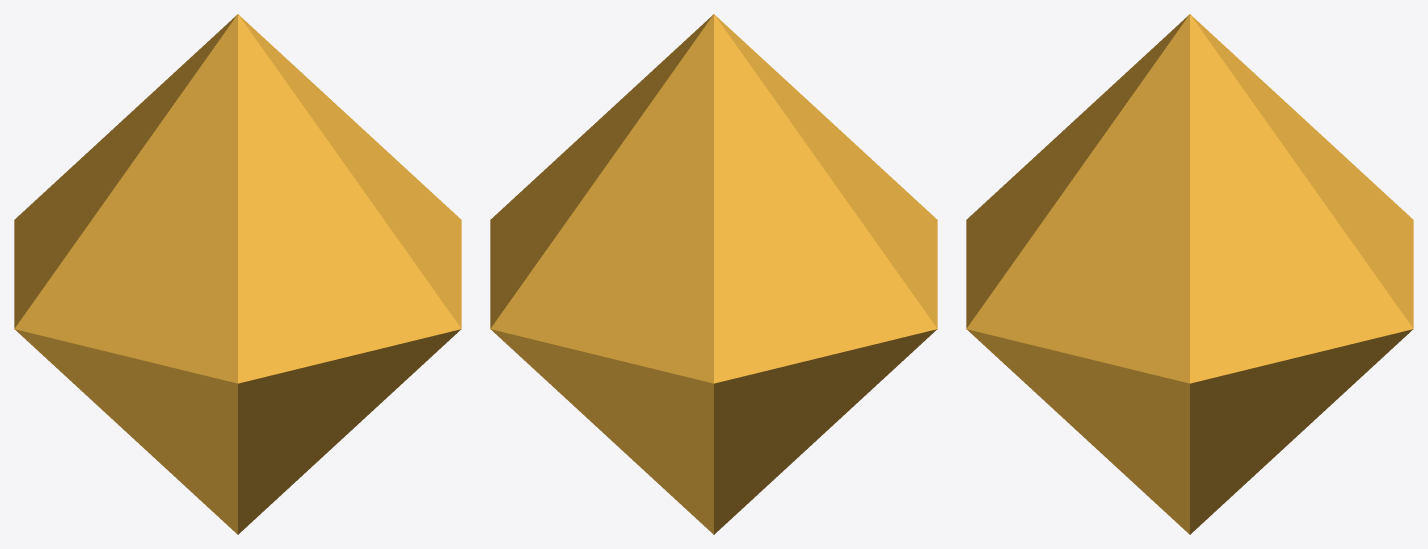
File: d_kenney_joyau.glb
3 renders of one model, left to right at view 1: azimuth 30°, elevation 25°; view 2: azimuth 150°, elevation 25°; view 3: azimuth 270°, elevation 25°, orthographic.
Visible parts, largest first — view 1: d_kenney_joyau; view 2: d_kenney_joyau; view 3: d_kenney_joyau.
Part boxes in pixels (box(x1,y1,x2,y2)): d_kenney_joyau: box(14, 14, 461, 534); d_kenney_joyau: box(490, 14, 937, 534); d_kenney_joyau: box(966, 14, 1413, 534).
Size of the model in its own units: 0.3329 by 0.3705 by 0.2883.
Materials: 1 (1 with a texture image).
